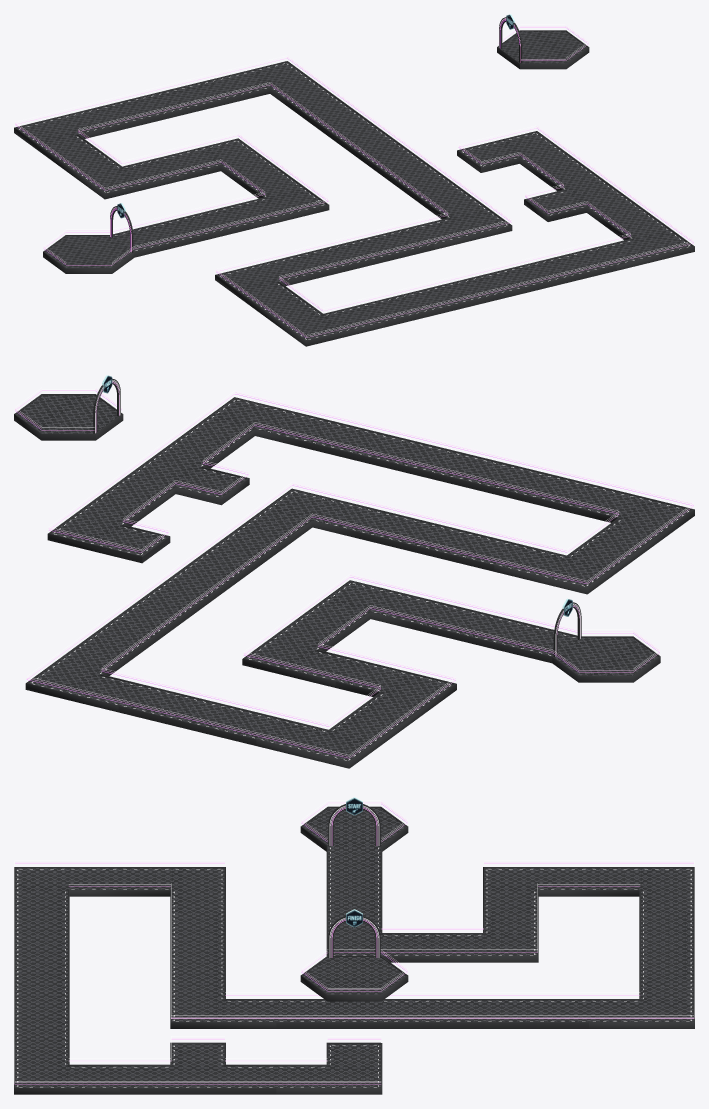
Rendered from map2.glb.
The picture shows the model from 3 angles, top to bottom: view 1: azimuth 30°, elevation 25°; view 2: azimuth 150°, elevation 25°; view 3: azimuth 270°, elevation 25°; orthographic projection. The views are drawn at different scales.
Parts seen in each view (by area): view 1: Platform5.003, Platform4.004, Platform4.020, Platform4.013, Platform4.002, Platform4.011, Platform4.003, Platform4.019, Platform4.012, Platform4.018, Platform4.001, FinishArea.001 (+22 smaller); view 2: Platform5.003, Platform4.004, Platform4.012, Platform4.019, Platform4.001, Platform4.018, Platform4.013, Platform4.020, Platform4.011, Platform4.002, Platform4.003, StartArea.002 (+22 smaller); view 3: Platform5.003, FinishArea.001, Platform4.004, Platform4.003, Platform4.018, Platform4.002, Platform4.001, Platform4.013, Platform4.019, Platform4.012, Platform4.020, StartArea.002 (+22 smaller).
Part boxes in pixels (box(x1,y1,x2,y2)): Platform5.003: box(524, 159, 648, 228); Platform4.004: box(457, 125, 581, 179); Platform4.020: box(59, 145, 183, 199); Platform4.013: box(260, 292, 384, 346); Platform4.002: box(410, 187, 512, 249); Platform4.011: box(227, 166, 329, 229); Platform4.003: box(593, 208, 694, 270); Platform4.019: box(14, 103, 116, 165); Platform4.012: box(215, 250, 317, 313); Platform4.018: box(160, 133, 283, 186); Platform4.001: box(209, 55, 331, 109); FinishArea.001: box(497, 14, 589, 69); Platform5.003: box(102, 430, 249, 512); Platform4.004: box(47, 488, 170, 563); Platform4.012: box(494, 530, 641, 594); Platform4.019: box(256, 705, 402, 768); Platform4.001: box(25, 637, 146, 712); Platform4.018: box(242, 613, 363, 687); Platform4.013: box(573, 480, 694, 554); Platform4.020: box(335, 654, 456, 729); Platform4.011: box(296, 573, 442, 637); Platform4.002: box(238, 482, 384, 545); Platform4.003: box(181, 390, 326, 454); StartArea.002: box(552, 598, 660, 682); Platform5.003: box(120, 1036, 276, 1094); FinishArea.001: box(300, 909, 408, 1001); Platform4.004: box(276, 1036, 382, 1094); Platform4.003: box(14, 1037, 119, 1094); Platform4.018: box(432, 905, 538, 962); Platform4.002: box(170, 971, 276, 1028); Platform4.001: box(589, 971, 694, 1028); Platform4.013: box(14, 860, 119, 912); Platform4.019: box(589, 860, 694, 912); Platform4.012: box(120, 860, 225, 912); Platform4.020: box(483, 860, 588, 912); StartArea.002: box(300, 797, 408, 851).
Size of what is drawn, in the model's own units: 81.13 by 20.7 by 78.4.
Materials: 5 (3 with a texture image).
